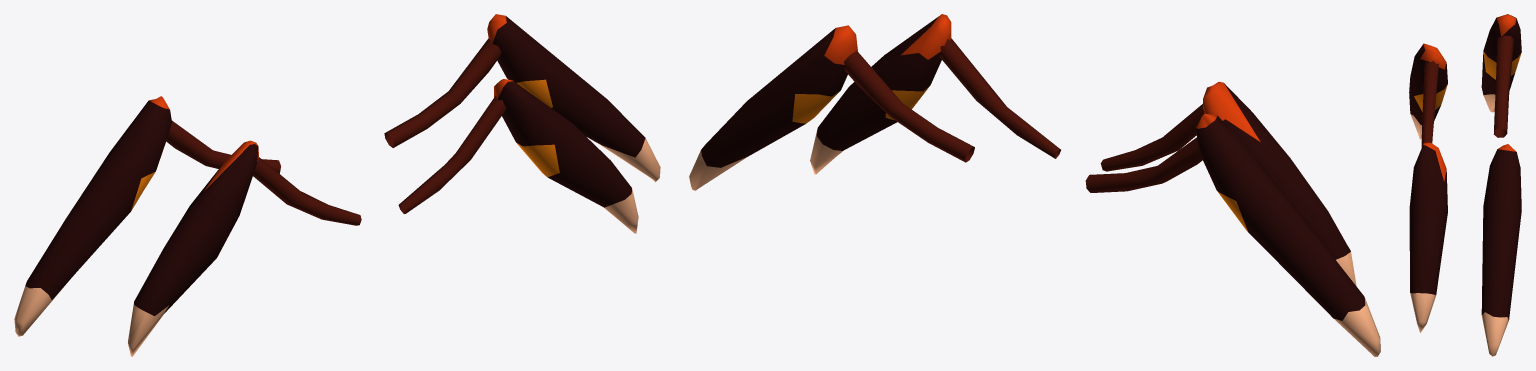
Rendered from Feet_Spider.glb.
The picture shows the model from 3 angles, left to right: view 1: azimuth 30°, elevation 25°; view 2: azimuth 150°, elevation 25°; view 3: azimuth 270°, elevation 25°; orthographic projection. The views are drawn at different scales.
Parts seen in each view (by area): view 1: Feet_Spider; view 2: Feet_Spider; view 3: Feet_Spider.
Part boxes in pixels (x1,y1,x2,y2): Feet_Spider: (14, 14, 660, 356); Feet_Spider: (689, 14, 1380, 356); Feet_Spider: (1409, 14, 1521, 356).
Size of the model in its own units: 3.35 by 0.9929 by 0.6451.
Materials: 1 (1 with a texture image).
